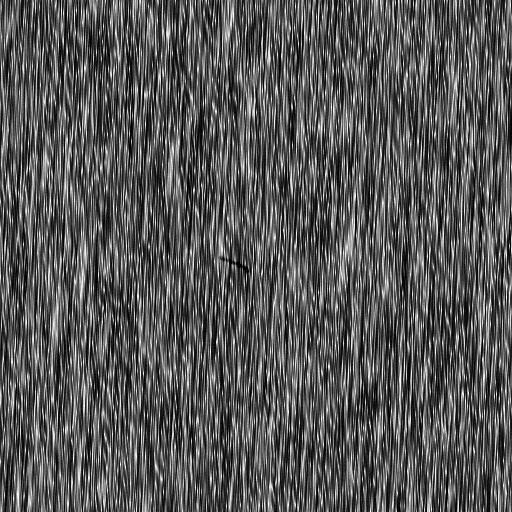DefectTypeC: (218, 255, 252, 275)
